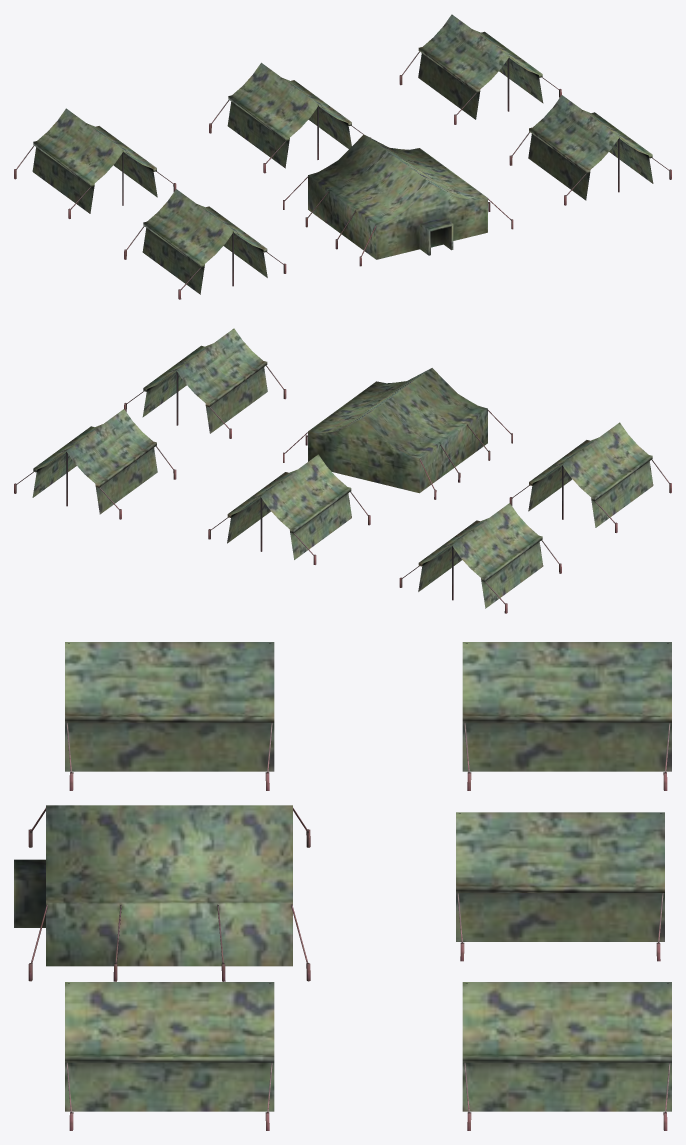
Rendered from Barracks.glb.
3 views of the same model, one above another, from view 1: azimuth 30°, elevation 25°; view 2: azimuth 150°, elevation 25°; view 3: azimuth 270°, elevation 25° (orthographic). The views are drawn at different scales.
Parts seen in each view (by area): view 1: 2, 2.002, 2.001, 2.003; view 2: 2, 2.001, 2.002, 2.003; view 3: 2.001, 2.002, 2, 2.003.
Part boxes in pixels (left/top/right/bottom): 2: left=283, top=134, right=513, bottom=266; 2.002: left=14, top=14, right=561, bottom=218; 2.001: left=124, top=95, right=671, bottom=299; 2.003: left=209, top=62, right=370, bottom=173; 2: left=283, top=368, right=512, bottom=499; 2.001: left=124, top=328, right=671, bottom=532; 2.002: left=14, top=409, right=561, bottom=613; 2.003: left=208, top=454, right=370, bottom=564; 2.001: left=65, top=642, right=274, bottom=1130; 2.002: left=462, top=642, right=671, bottom=1130; 2: left=14, top=805, right=310, bottom=981; 2.003: left=456, top=812, right=664, bottom=961.
Bounding box in the file's own units: 29.73 × 3.57 × 19.04.
1 material, 1 textured.
